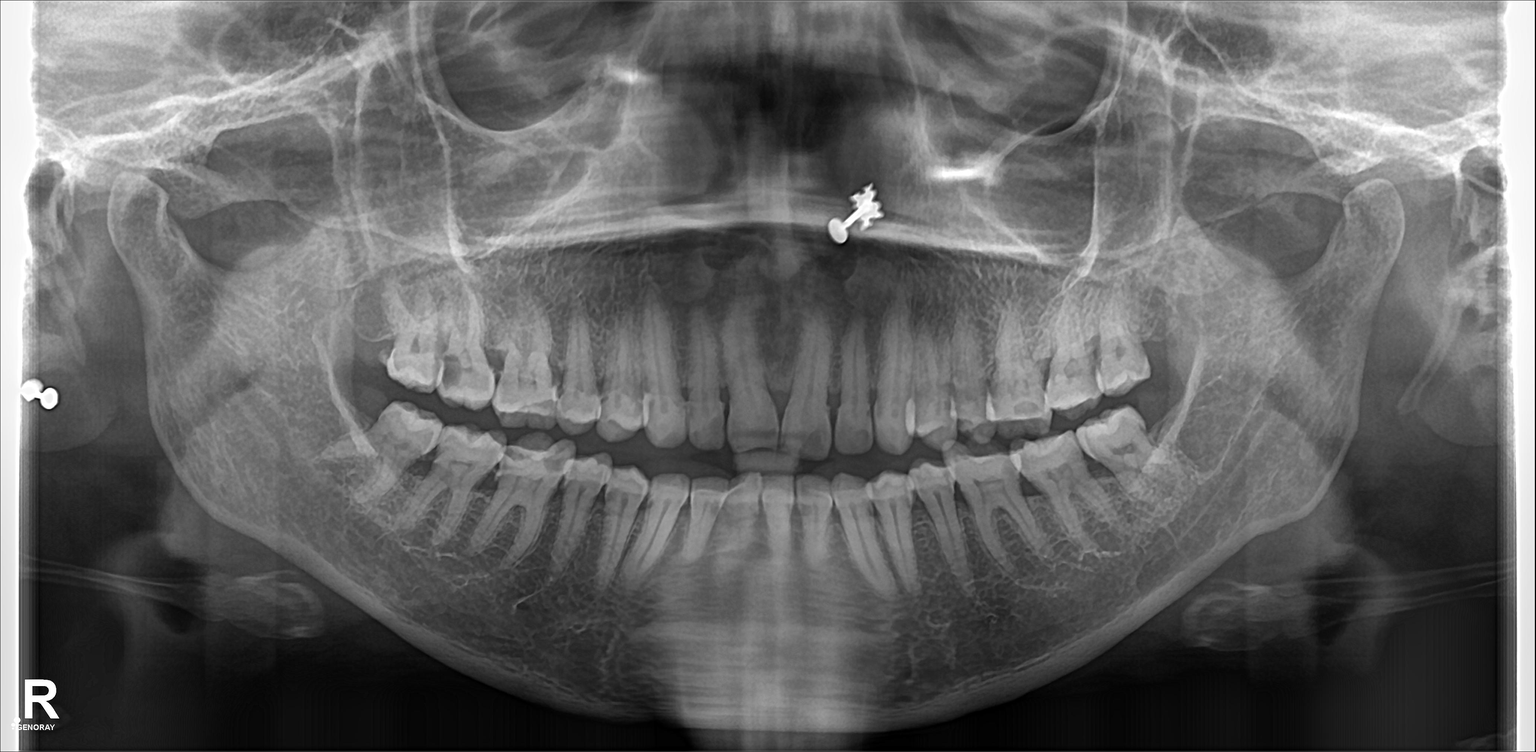Dental Caries: (438, 352, 469, 386)
Impacted Third Molar: (1082, 417, 1177, 480)
Missing Tooth: (1130, 292, 1181, 375), (350, 292, 392, 383)
